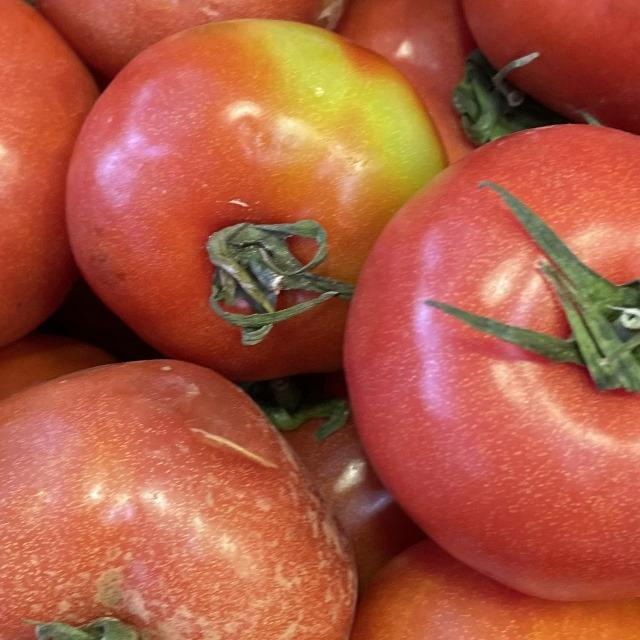tomato: (315, 110, 640, 617), (45, 0, 455, 375), (0, 347, 397, 640), (0, 0, 112, 350)
